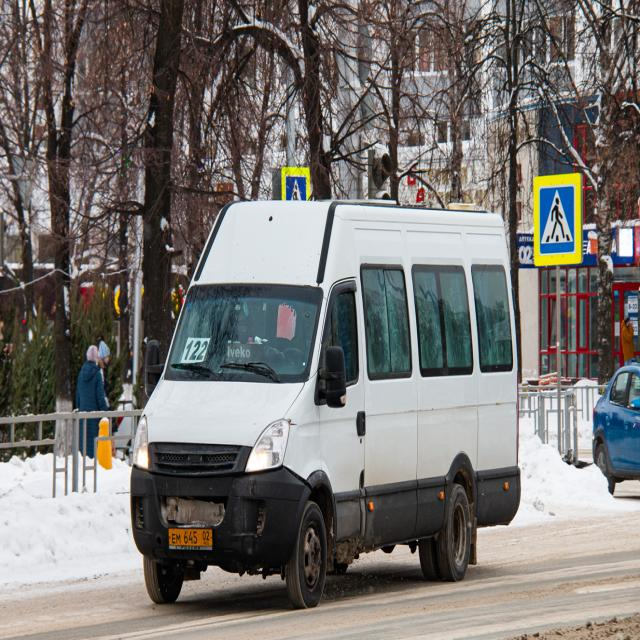number-of-bus: (184, 340, 210, 363)
